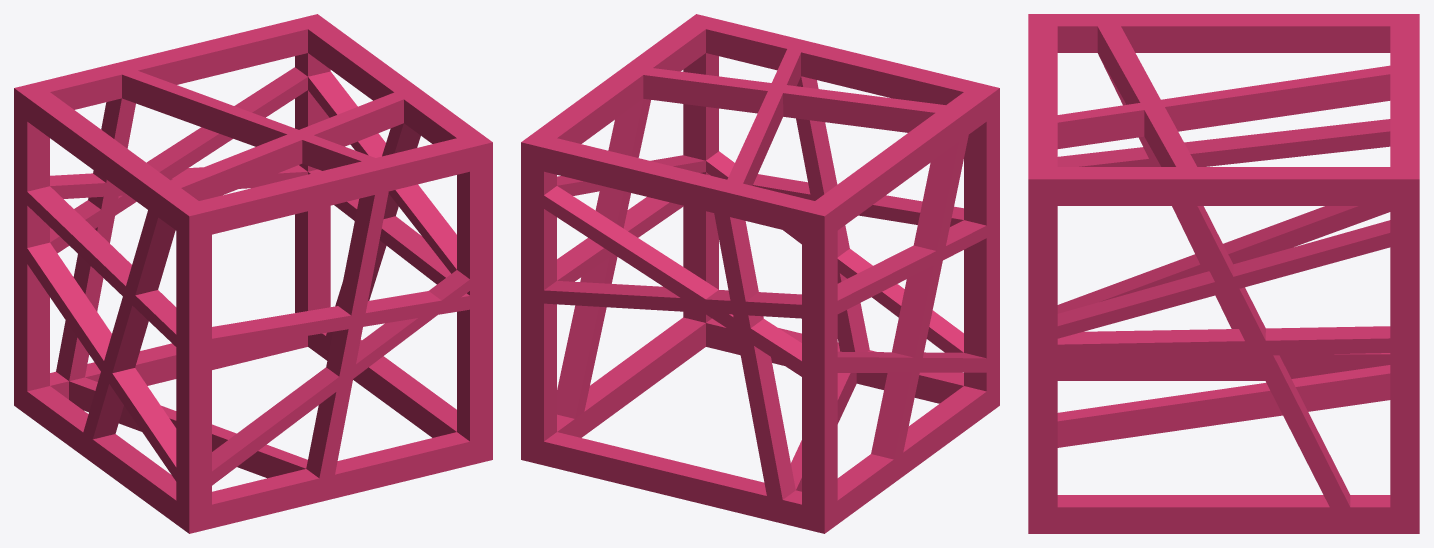
The picture shows the model from 3 angles, left to right: view 1: azimuth 30°, elevation 25°; view 2: azimuth 150°, elevation 25°; view 3: azimuth 270°, elevation 25°; orthographic projection. The views are drawn at different scales.
Parts seen in each view (by area): view 1: polySurface15; view 2: polySurface15; view 3: polySurface15.
Part boxes in pixels (x1,y1,x2,y2): polySurface15: (14,14,492,533); polySurface15: (521,14,999,533); polySurface15: (1028,14,1419,533).
Size of the model in its own units: 0.5458 by 0.5458 by 0.5458.
